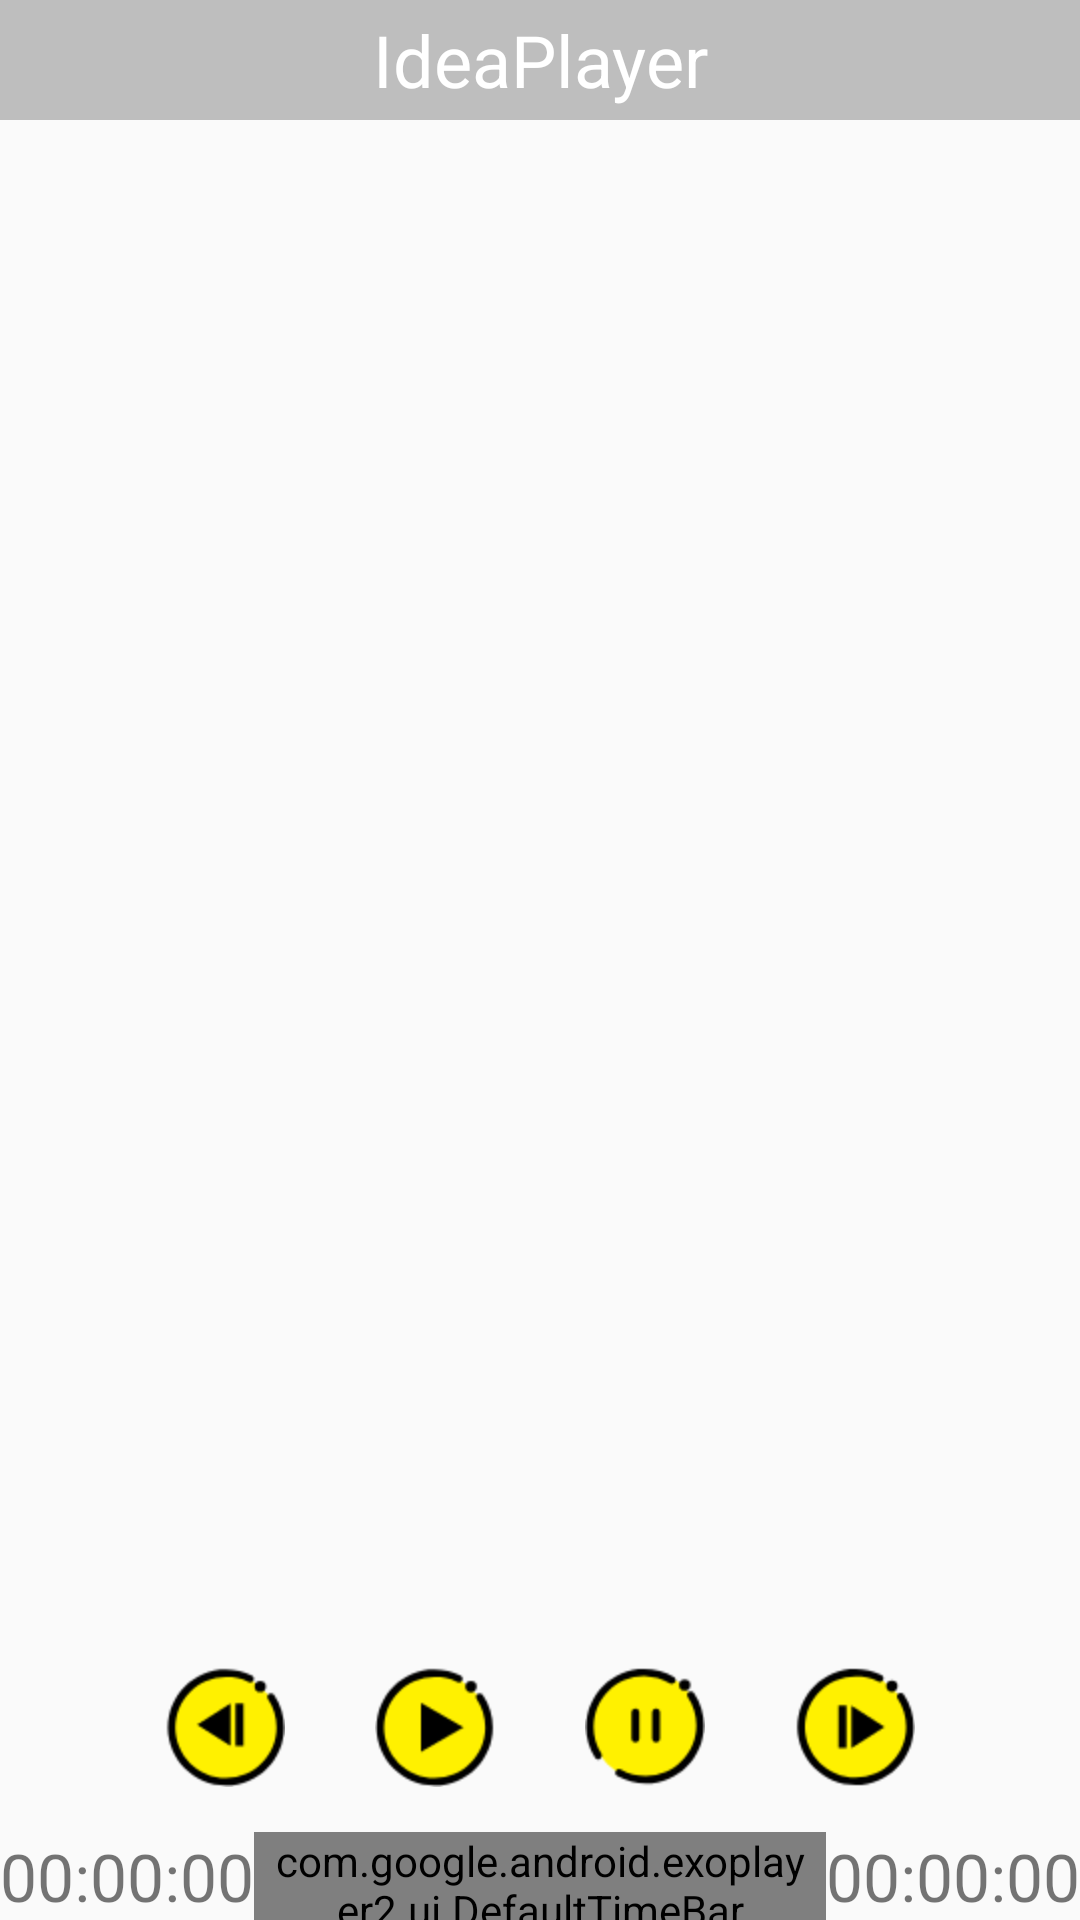

Icon click points for this 1080x1920 phone screenshot, format point (x, y):
exo next: point (855, 1727)
exo prev: point (225, 1727)
